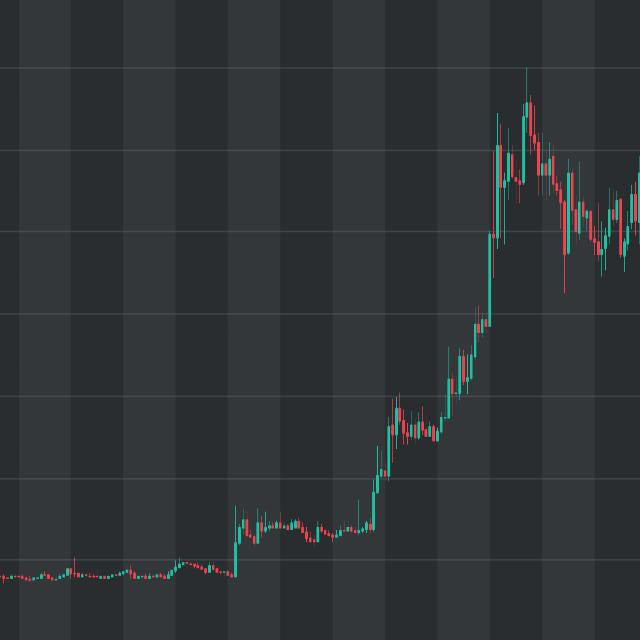Descending-Triangle: (505, 46, 640, 260)
